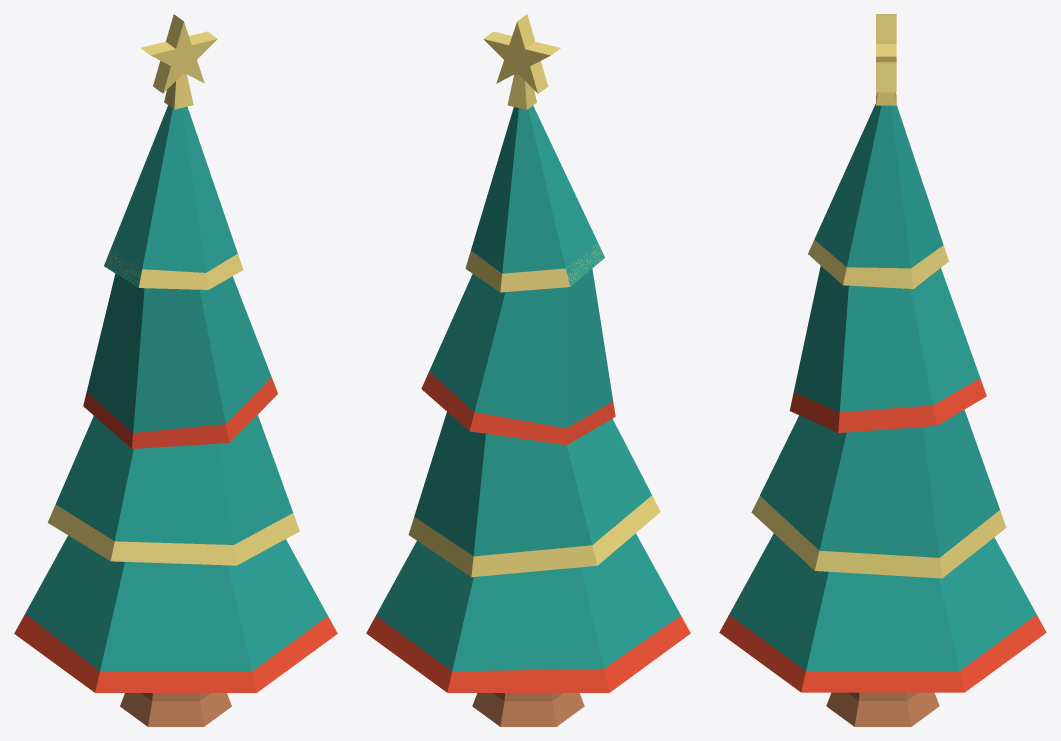
File: treeDecorated.dae
The picture shows the model from 3 angles, left to right: view 1: azimuth 30°, elevation 25°; view 2: azimuth 150°, elevation 25°; view 3: azimuth 270°, elevation 25°; orthographic projection.
Parts seen in each view (by area): view 1: treeDecorated, star; view 2: treeDecorated, star; view 3: treeDecorated, star.
Part boxes in pixels (<box>): treeDecorated: <box>14,105,337,726</box>; star: <box>140,14,217,109</box>; treeDecorated: <box>366,106,690,726</box>; star: <box>483,14,560,109</box>; treeDecorated: <box>719,103,1046,726</box>; star: <box>876,14,896,105</box>.
Size of the model in its own units: 0.651 by 1.76 by 0.7517.
